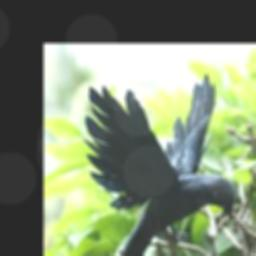Crow: (84, 73, 236, 256)
